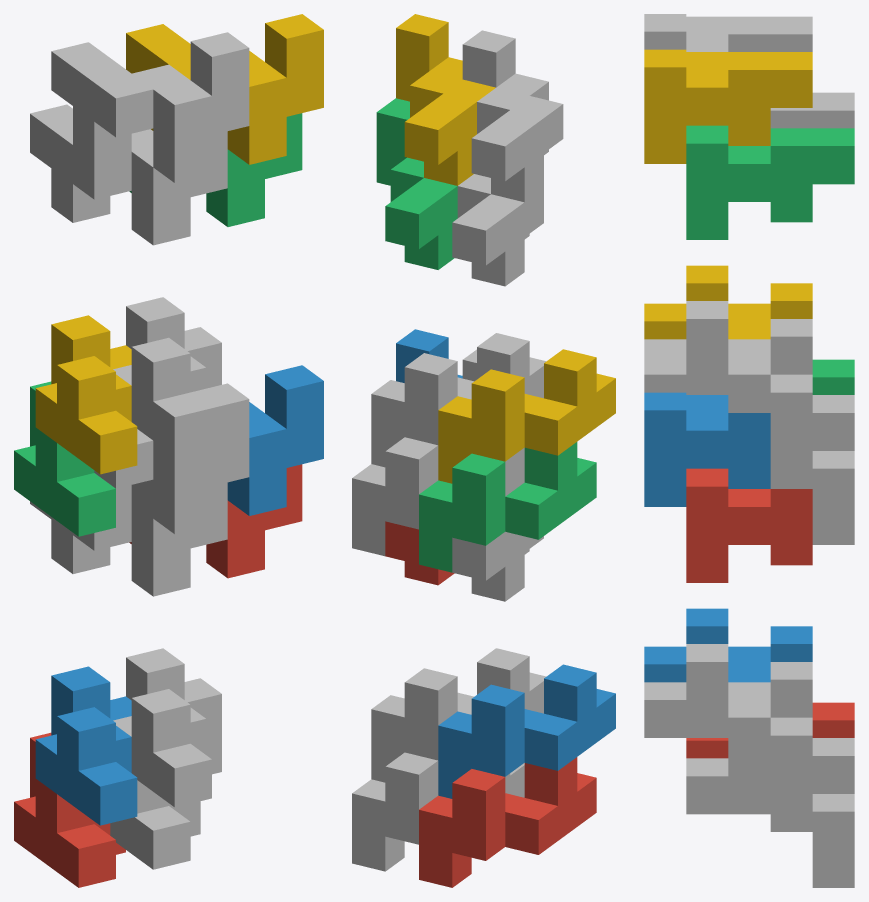
Rendered from tiling.obj.
3 views of the same model, side by side, from view 1: azimuth 30°, elevation 25°; view 2: azimuth 150°, elevation 25°; view 3: azimuth 270°, elevation 25° (orthographic). The views are drawn at different scales.
Parts seen in each view (by area): view 1: copy_2_domain_4, copy_2_domain_3, copy_1_domain_6, copy_1_domain_2, copy_1_domain_4, copy_1_domain_8, copy_2_domain_8, copy_2_domain_2, copy_2_domain_6, copy_2_domain_1, copy_1_domain_1, copy_1_domain_3 (+4 smaller); view 2: copy_1_domain_1, copy_1_domain_4, copy_1_domain_2, copy_1_domain_3, copy_2_domain_4, copy_2_domain_8, copy_1_domain_6, copy_1_domain_8, copy_2_domain_7, copy_1_domain_5, copy_2_domain_3, copy_1_domain_7 (+4 smaller); view 3: copy_1_domain_6, copy_2_domain_8, copy_1_domain_8, copy_2_domain_7, copy_1_domain_5, copy_2_domain_6, copy_2_domain_5, copy_1_domain_7, copy_1_domain_2, copy_1_domain_4, copy_2_domain_4, copy_2_domain_3 (+3 smaller).
Boxes of the visible parts, bbox=[...] form: copy_2_domain_4: bbox=[51, 32, 249, 182]; copy_2_domain_3: bbox=[30, 104, 227, 245]; copy_1_domain_6: bbox=[113, 648, 221, 807]; copy_1_domain_2: bbox=[35, 666, 137, 825]; copy_1_domain_4: bbox=[35, 315, 137, 474]; copy_1_domain_8: bbox=[113, 297, 221, 455]; copy_2_domain_8: bbox=[126, 14, 323, 164]; copy_2_domain_2: bbox=[94, 383, 249, 534]; copy_2_domain_6: bbox=[227, 365, 323, 515]; copy_2_domain_1: bbox=[30, 482, 227, 596]; copy_1_domain_1: bbox=[14, 732, 125, 887]; copy_1_domain_3: bbox=[14, 381, 115, 536]; copy_1_domain_1: bbox=[419, 757, 596, 887]; copy_1_domain_4: bbox=[438, 349, 615, 483]; copy_1_domain_2: bbox=[438, 664, 615, 798]; copy_1_domain_3: bbox=[419, 442, 596, 572]; copy_2_domain_4: bbox=[462, 30, 563, 202]; copy_2_domain_8: bbox=[396, 14, 495, 185]; copy_1_domain_6: bbox=[371, 648, 546, 782]; copy_1_domain_8: bbox=[371, 333, 545, 467]; copy_2_domain_7: bbox=[376, 98, 457, 269]; copy_1_domain_5: bbox=[352, 752, 524, 871]; copy_2_domain_3: bbox=[452, 174, 543, 286]; copy_1_domain_7: bbox=[352, 437, 438, 556]; copy_1_domain_6: bbox=[644, 644, 812, 811]; copy_2_domain_8: bbox=[644, 49, 812, 163]; copy_1_domain_8: bbox=[644, 301, 812, 468]; copy_2_domain_7: bbox=[686, 125, 854, 239]; copy_1_domain_5: bbox=[686, 738, 854, 887]; copy_2_domain_6: bbox=[644, 392, 770, 506]; copy_2_domain_5: bbox=[686, 468, 812, 582]; copy_1_domain_7: bbox=[770, 395, 854, 544]; copy_1_domain_2: bbox=[644, 608, 812, 682]; copy_1_domain_4: bbox=[644, 265, 812, 339]; copy_2_domain_4: bbox=[644, 14, 812, 51]; copy_2_domain_3: bbox=[770, 92, 854, 128].
Size of the model in its own units: 6 by 22 by 5.
